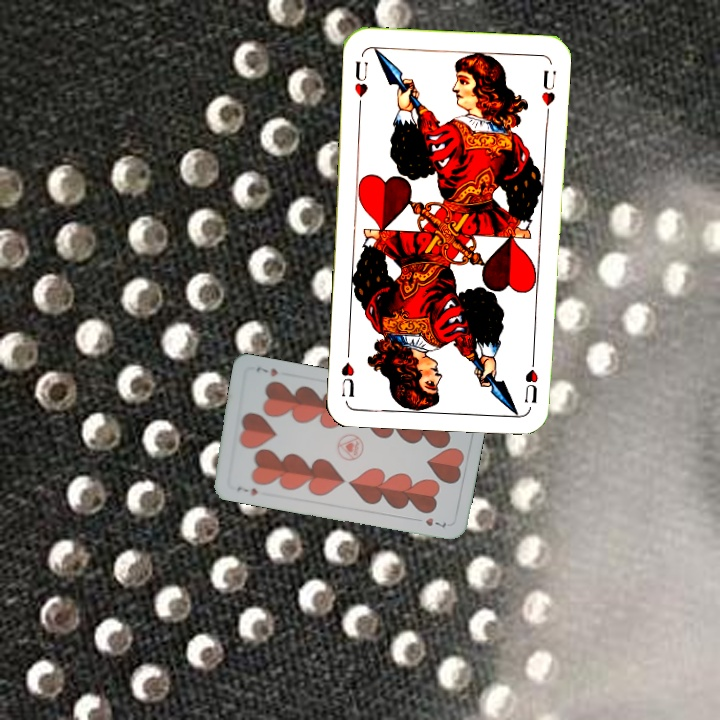H7: (233, 482, 260, 498)
HU: (521, 350, 541, 406), (350, 57, 370, 110)
